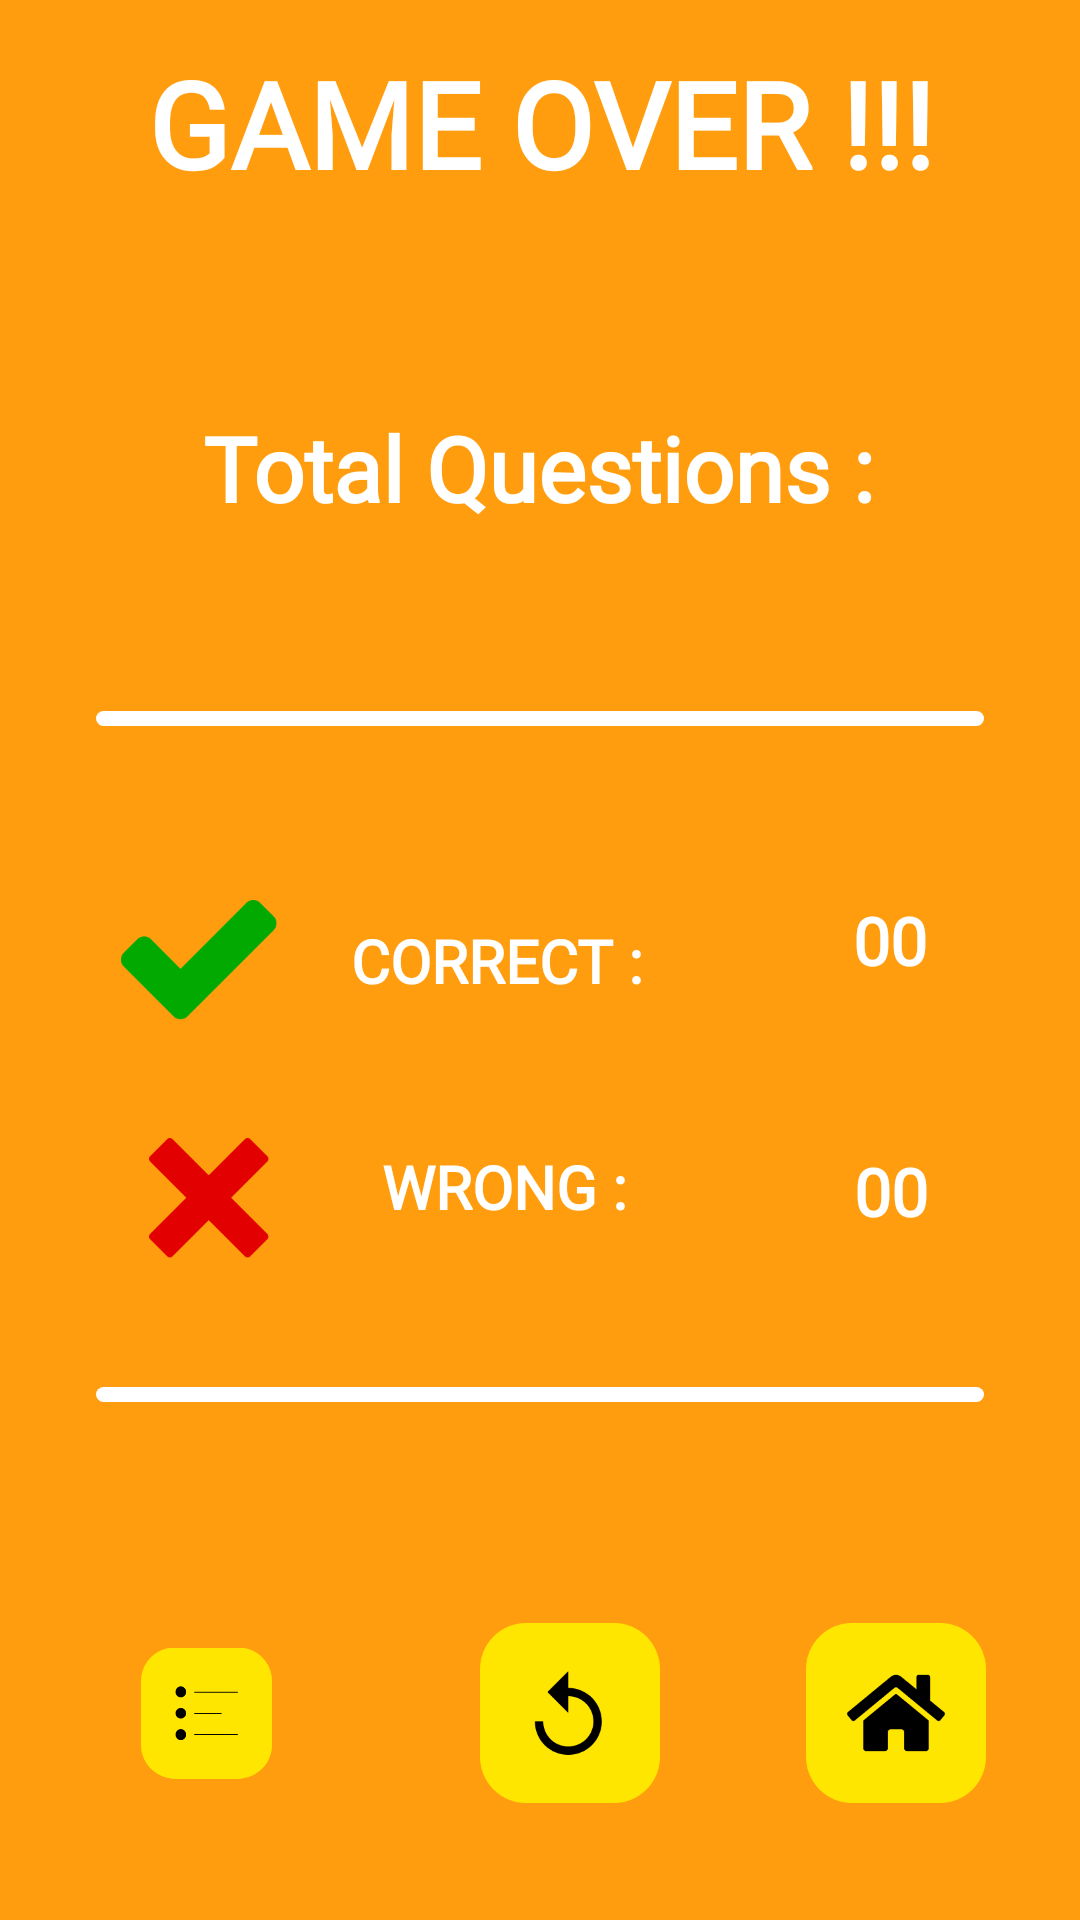

Point at icon controls on the screen. Image size 1080 × 1920, points as (x=x, y=y).
home: (x=896, y=1713)
play again: (x=570, y=1713)
scores: (x=206, y=1713)
